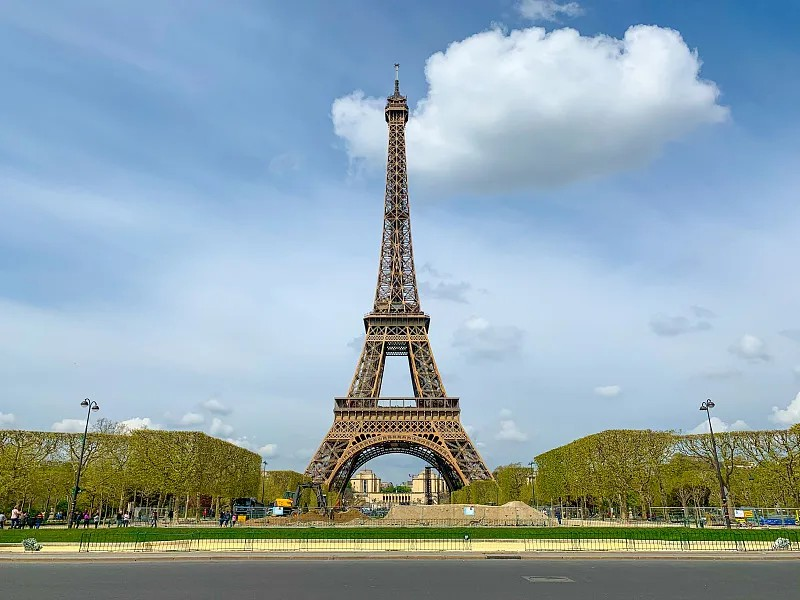Eiffel: (302, 63, 502, 503)
